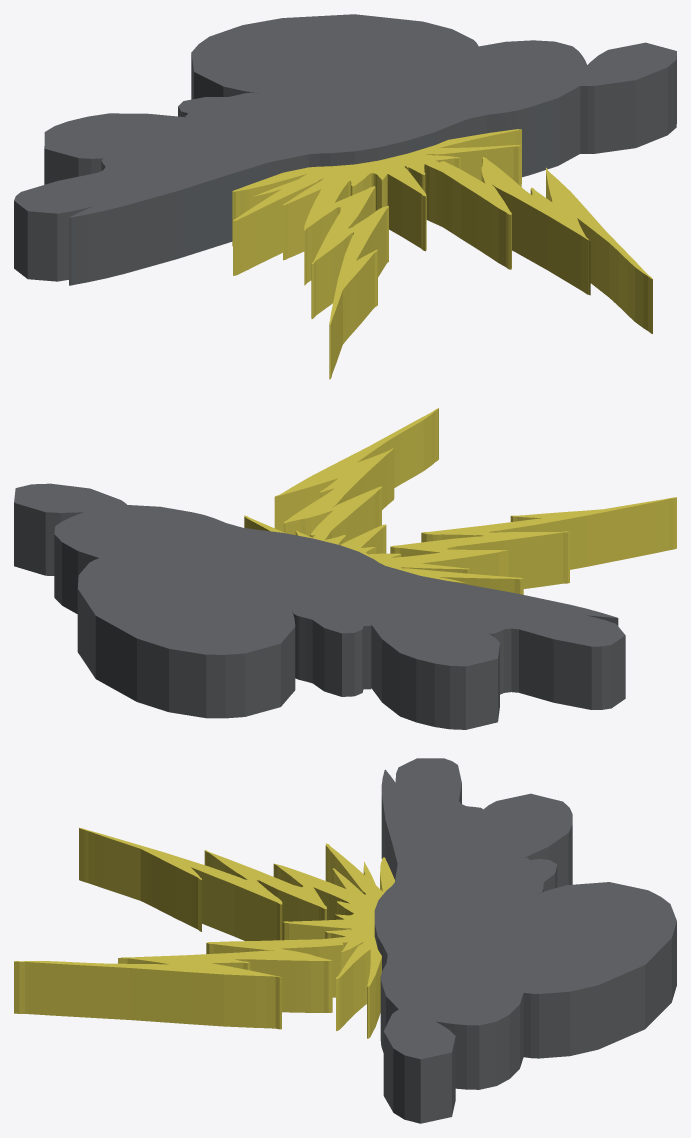
The model's file is modelo0.gltf.
3 renders of one model, top to bottom at view 1: azimuth 30°, elevation 25°; view 2: azimuth 150°, elevation 25°; view 3: azimuth 270°, elevation 25°, orthographic. The views are drawn at different scales.
Parts seen in each view (by area): view 1: Mesh_Mesh_head_geo.001_lambert2SG.001; view 2: Mesh_Mesh_head_geo.001_lambert2SG.001; view 3: Mesh_Mesh_head_geo.001_lambert2SG.001.
Part boxes in pixels (bbox=[...]): Mesh_Mesh_head_geo.001_lambert2SG.001: bbox=[14, 14, 676, 379]; Mesh_Mesh_head_geo.001_lambert2SG.001: bbox=[14, 408, 676, 729]; Mesh_Mesh_head_geo.001_lambert2SG.001: bbox=[14, 758, 676, 1123].
Bounding box in the file's own units: 118 × 11.8 × 110.
